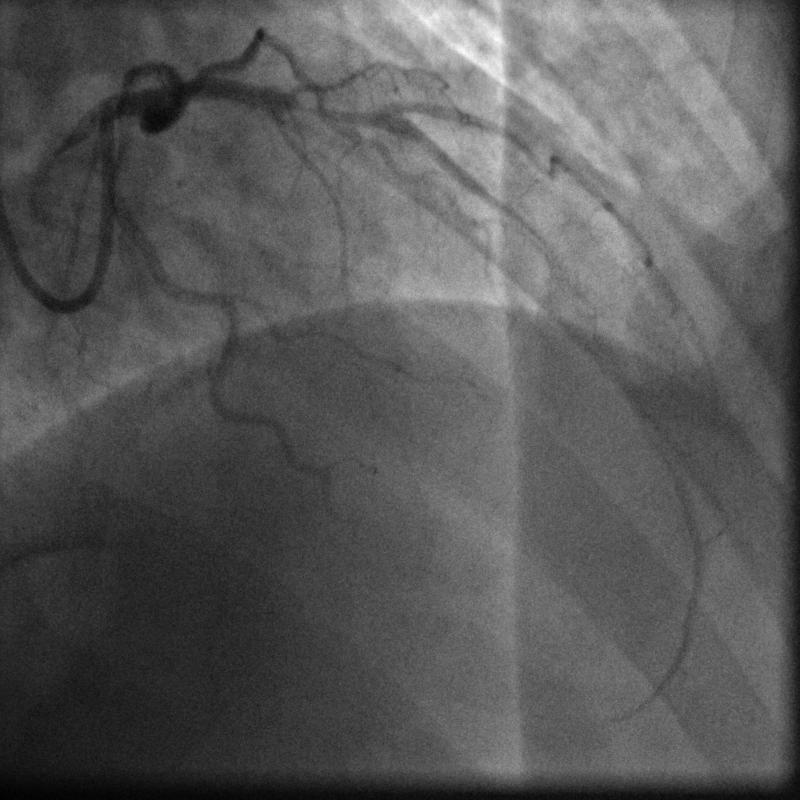Stenosis: (290, 98, 388, 130)
